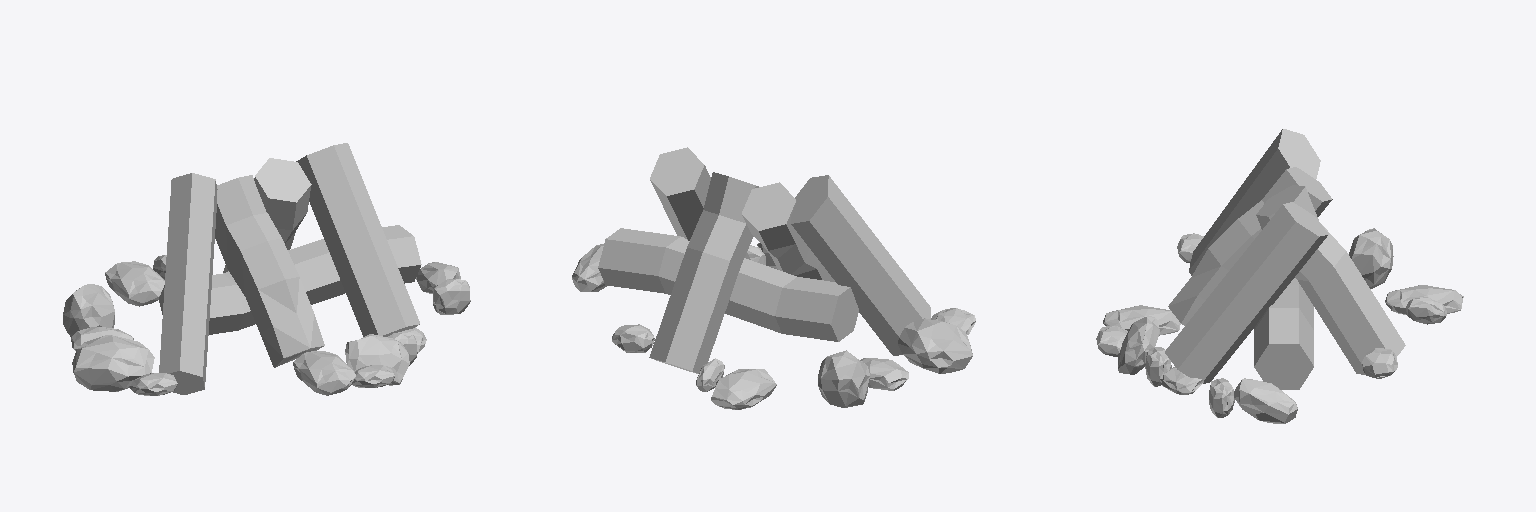
Rendered from fireplace.obj.
3 views of the same model, side by side, from view 1: azimuth 30°, elevation 25°; view 2: azimuth 150°, elevation 25°; view 3: azimuth 270°, elevation 25° (orthographic).
Parts seen in each view (by area): view 1: Cylinder, Cube.008, Cube.011, Cube.009, Cube.002_Cube.005, Cube.003, Cube.005_Cube.002, Cube.010, Cube.004_Cube.001, Cube.012, Cube.001_Cube.004; view 2: Cylinder, Cube.008, Cube.009, Cube.003, Cube.001_Cube.004, Cube.004_Cube.001, Cube.007, Cube.010, Cube; view 3: Cylinder, Cube.004_Cube.001, Cube.009, Cube.002_Cube.005, Cube.003, Cube.011, Cube.007, Cube, Cube.005_Cube.002, Cube.006, Cube.013, Cube.012.
Boxes of the visible parts, box(x1,y1,x2,y2) form: Cylinder: box(159, 143, 421, 394); Cube.008: box(72, 335, 154, 391); Cube.011: box(293, 351, 355, 395); Cube.009: box(63, 284, 114, 337); Cube.002_Cube.005: box(345, 334, 409, 385); Cube.003: box(105, 261, 164, 306); Cube.005_Cube.002: box(433, 279, 470, 314); Cube.010: box(130, 373, 177, 395); Cube.004_Cube.001: box(416, 262, 460, 293); Cube.012: box(352, 365, 394, 387); Cube.001_Cube.004: box(71, 327, 133, 350); Cylinder: box(598, 147, 930, 373); Cube.008: box(898, 318, 972, 373); Cube.009: box(818, 350, 869, 407); Cube.003: box(711, 369, 776, 409); Cube.001_Cube.004: box(860, 358, 908, 390); Cube.004_Cube.001: box(572, 244, 606, 291); Cube.007: box(612, 324, 654, 352); Cube.010: box(931, 308, 975, 334); Cube: box(696, 358, 724, 391); Cylinder: box(1165, 129, 1405, 389); Cube.004_Cube.001: box(1234, 378, 1297, 423); Cube.009: box(1349, 228, 1393, 288); Cube.002_Cube.005: box(1118, 316, 1159, 374); Cube.003: box(1385, 285, 1463, 314); Cube.011: box(1103, 305, 1180, 335); Cube.007: box(1362, 348, 1397, 378); Cube: box(1406, 297, 1446, 324); Cube.005_Cube.002: box(1209, 378, 1234, 417); Cube.006: box(1145, 347, 1171, 386); Cube.013: box(1161, 367, 1203, 394); Cube.012: box(1096, 326, 1127, 356).
Bounding box in the file's own units: 17.82 × 8.55 × 14.63.